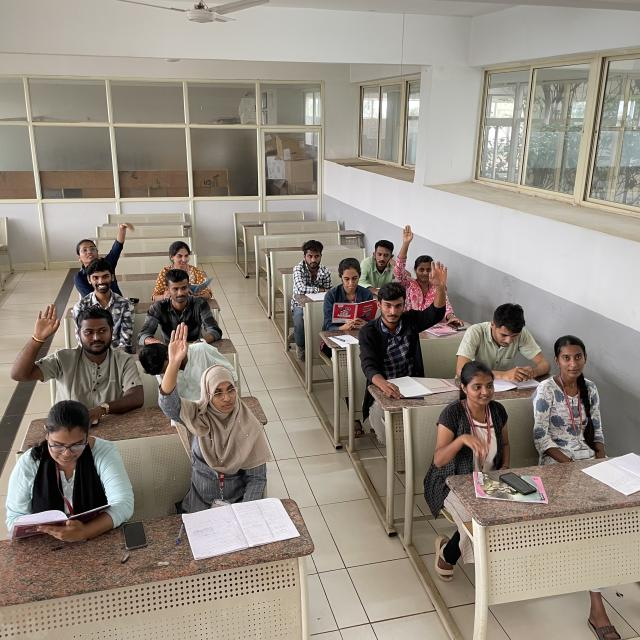Hand Rising: (152, 317, 274, 514), (10, 300, 158, 413), (361, 258, 447, 371), (394, 226, 454, 312)
Reading: (10, 400, 135, 536), (463, 295, 553, 390), (324, 258, 379, 332), (150, 241, 214, 300)
